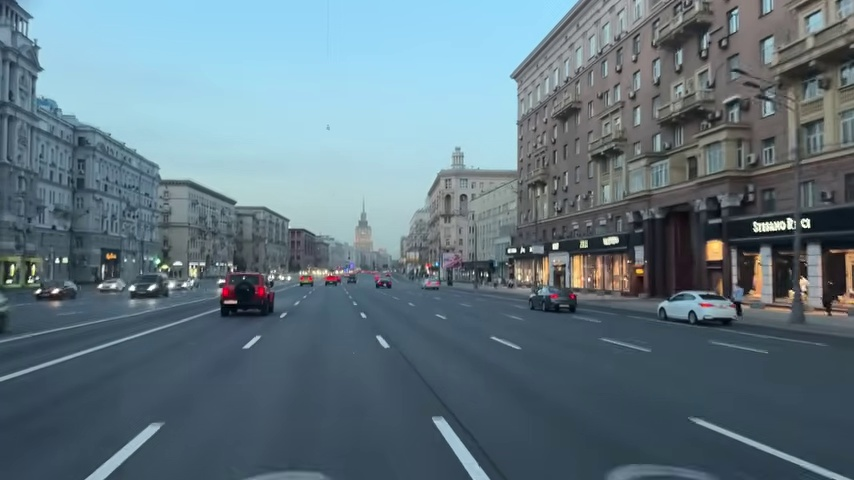apagada: (127, 420, 164, 456)
